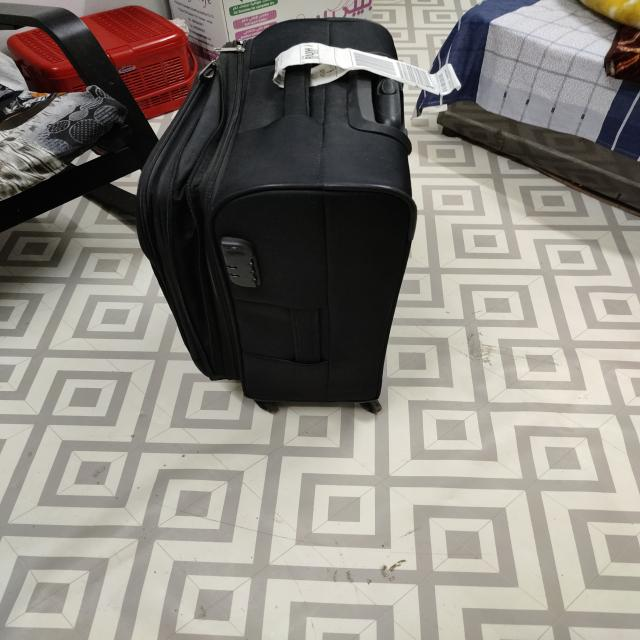suitcaserotation: (129, 14, 422, 415)
